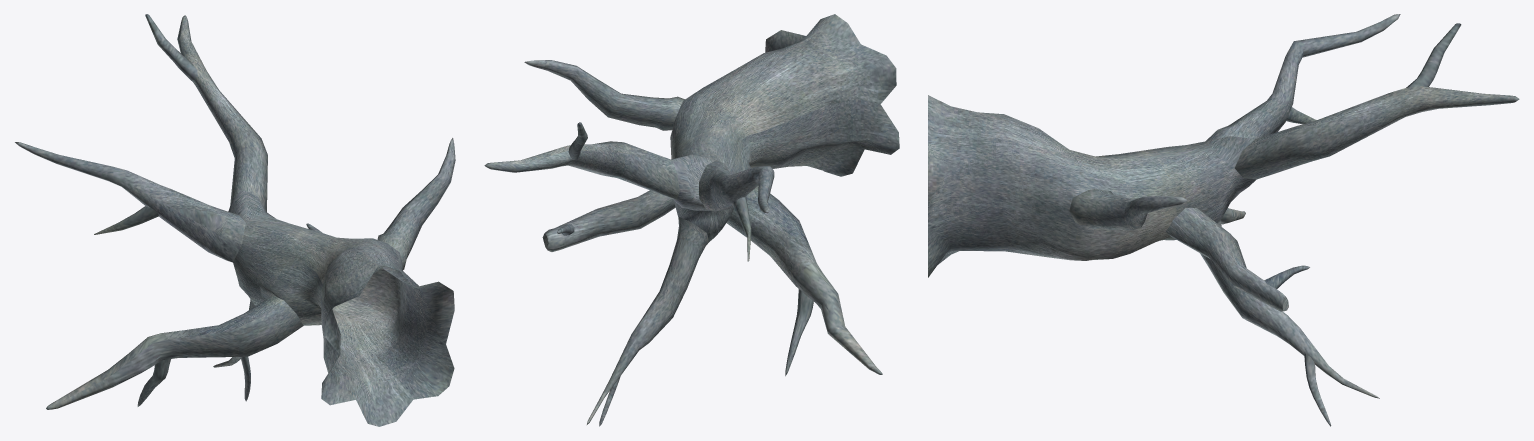
File: TreeHaunted.FBX
The picture shows the model from 3 angles, left to right: view 1: azimuth 30°, elevation 25°; view 2: azimuth 150°, elevation 25°; view 3: azimuth 270°, elevation 25°; orthographic projection. The views are drawn at different scales.
Parts seen in each view (by area): view 1: pCube2936__Tree00, pCube2933__Tree01; view 2: pCube2936__Tree00, pCube2933__Tree01; view 3: pCube2936__Tree00, pCube2933__Tree01.
Boxes of the visible parts, x1,y1,x2,y2 form: pCube2936__Tree00: (94,189,454,426); pCube2933__Tree01: (15,14,455,409); pCube2936__Tree00: (599,14,899,426); pCube2933__Tree01: (484,60,882,424); pCube2936__Tree00: (928,95,1331,426); pCube2933__Tree01: (1069,14,1519,398).
Size of the model in its own units: 616 by 548 by 767.
